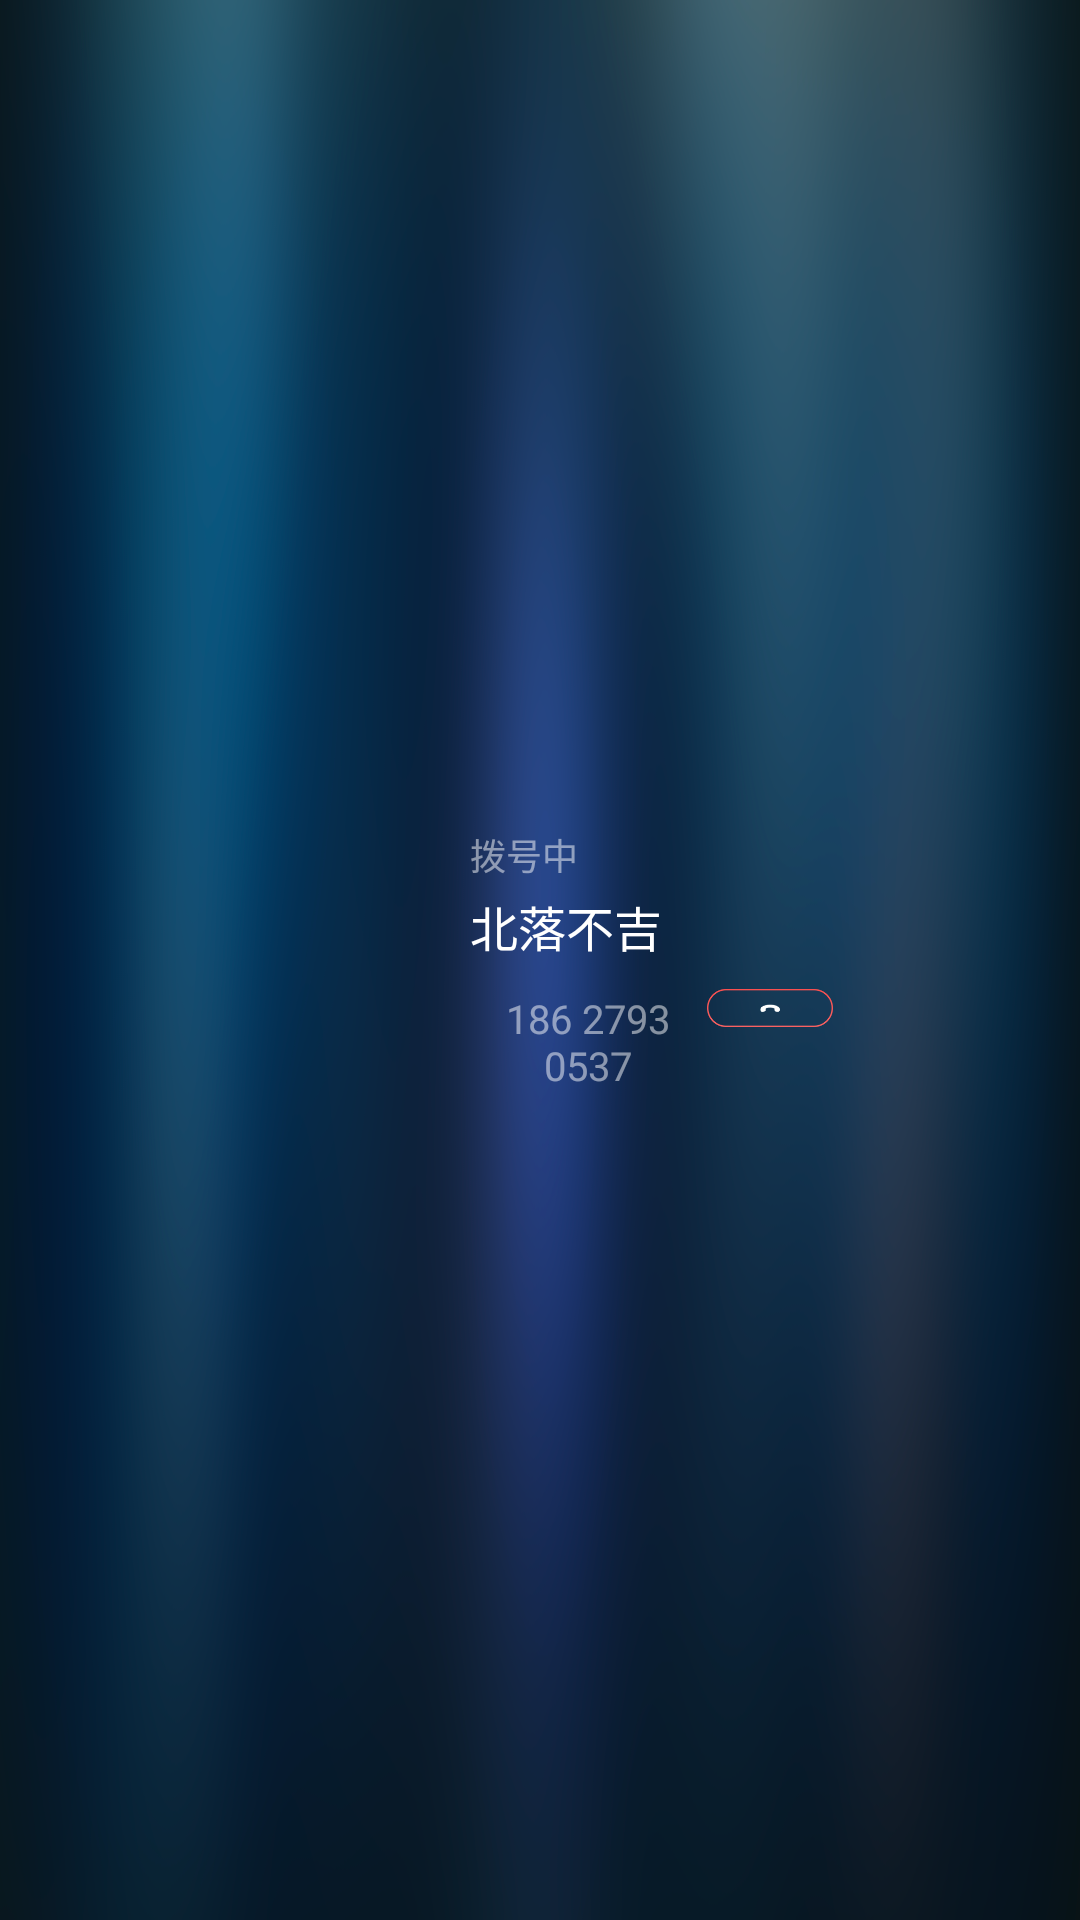

Point at icon controls on the screen. Image size 1080w x 1920h, points as point (x, y).
terminate: point (770, 1008)
